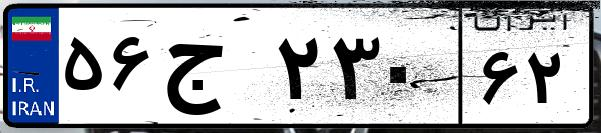0: (385, 28, 445, 110)
2: (270, 28, 330, 110), (525, 38, 570, 115)
3: (330, 28, 385, 110)
5: (57, 26, 110, 100)
6: (475, 38, 525, 113), (110, 28, 158, 98)
ج: (158, 20, 270, 120)
